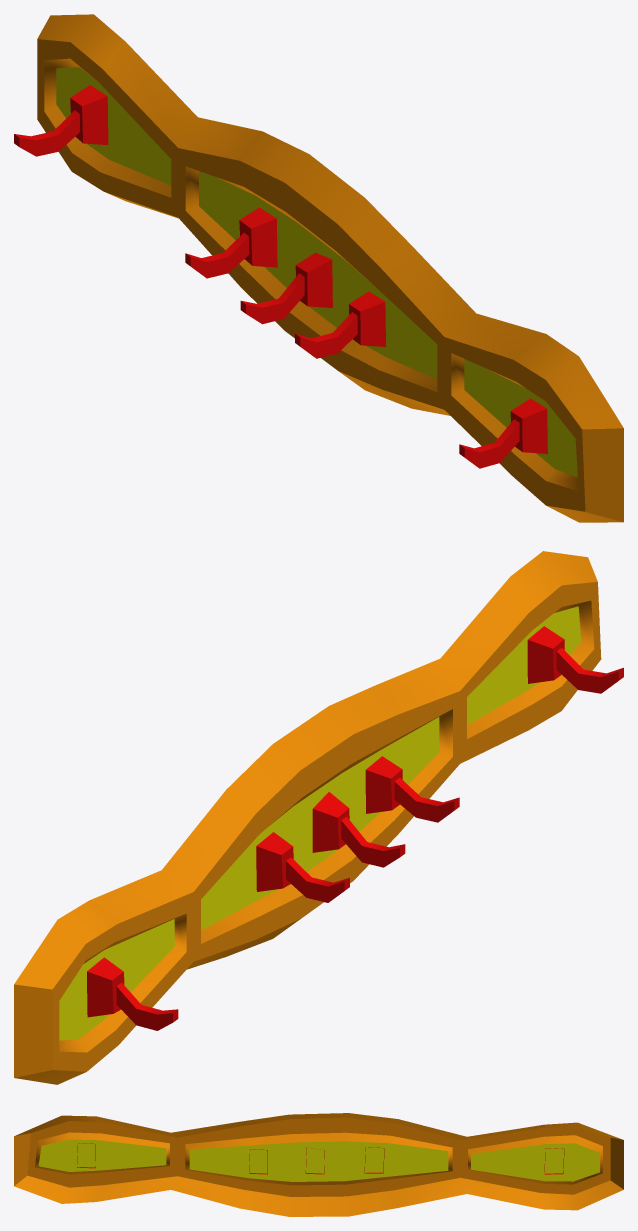
The model's file is Hallway_Hanger.fbx.
The picture shows the model from 3 angles, top to bottom: view 1: azimuth 30°, elevation 25°; view 2: azimuth 150°, elevation 25°; view 3: azimuth 270°, elevation 25°; orthographic projection. The views are drawn at different scales.
Parts seen in each view (by area): view 1: Hanger; view 2: Hanger; view 3: Hanger.
Part boxes in pixels (<box>): Hanger: <box>14,14,623,522</box>; Hanger: <box>14,551,623,1084</box>; Hanger: <box>14,1113,623,1216</box>.
Bounding box in the file's own units: 13.88 × 26.55 × 141.
